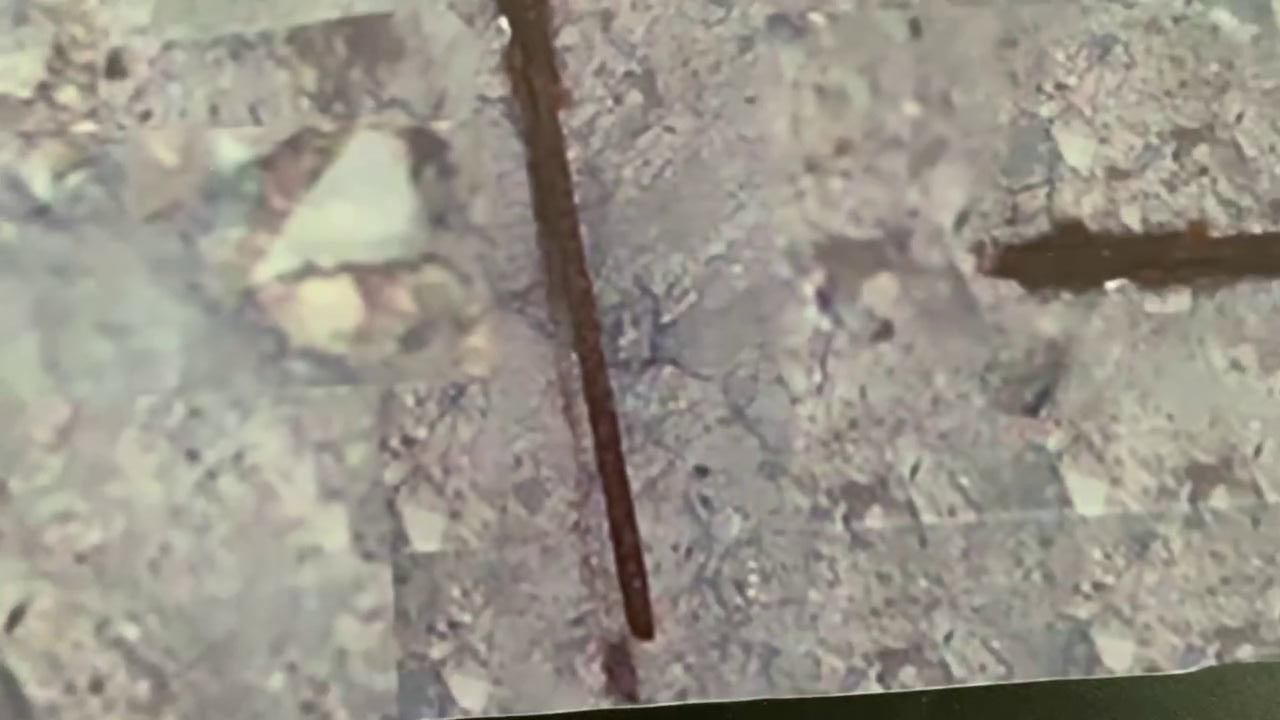Exposed reinforcement: (497, 1, 657, 642), (983, 217, 1280, 292)
